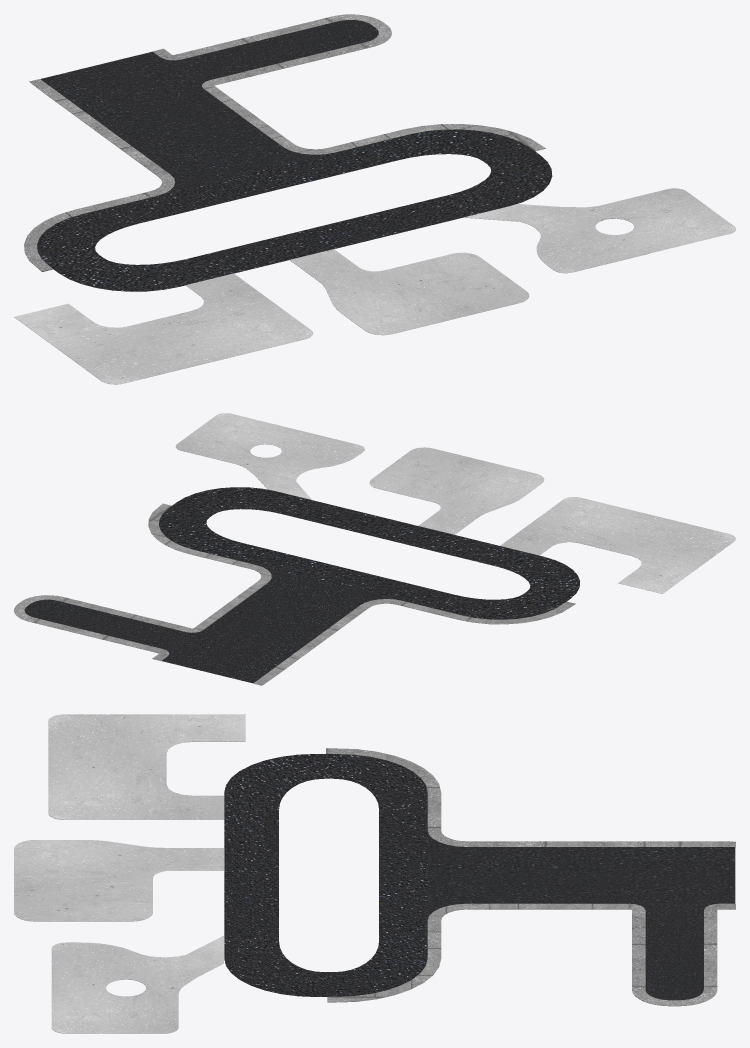
File: newBlocks.fbx
3 renders of one model, top to bottom at view 1: azimuth 30°, elevation 25°; view 2: azimuth 150°, elevation 25°; view 3: azimuth 270°, elevation 25°, orthographic. The views are drawn at different scales.
Visible parts, largest first — view 1: polySurface36, polySurface37, polySurface34, polySurface46, polySurface39, polySurface38, polySurface49, polySurface48, polySurface47, polySurface50, polySurface40, polySurface52 (+9 smaller); view 2: polySurface36, polySurface37, polySurface34, polySurface46, polySurface39, polySurface38, polySurface49, polySurface48, polySurface47, polySurface50, polySurface40, polySurface52 (+9 smaller); view 3: polySurface36, polySurface37, polySurface34, polySurface46, polySurface39, polySurface38, polySurface49, polySurface48, polySurface47, polySurface50, polySurface40, polySurface52 (+9 smaller).
Part boxes in pixels (<box>): polySurface36: <box>300,129,552,229</box>; polySurface37: <box>120,161,412,267</box>; polySurface34: <box>37,205,255,291</box>; polySurface46: <box>368,252,529,322</box>; polySurface39: <box>94,80,257,150</box>; polySurface38: <box>138,128,330,195</box>; polySurface49: <box>14,303,142,384</box>; polySurface48: <box>128,308,242,378</box>; polySurface47: <box>185,273,312,354</box>; polySurface50: <box>577,188,735,271</box>; polySurface40: <box>40,51,190,117</box>; polySurface52: <box>536,219,654,273</box>; polySurface36: <box>159,487,353,571</box>; polySurface37: <box>285,510,482,607</box>; polySurface34: <box>427,541,579,619</box>; polySurface46: <box>369,447,495,504</box>; polySurface39: <box>193,598,332,651</box>; polySurface38: <box>248,565,399,624</box>; polySurface49: <box>618,530,735,593</box>; polySurface48: <box>572,510,712,555</box>; polySurface47: <box>500,497,632,555</box>; polySurface50: <box>175,413,295,461</box>; polySurface40: <box>162,638,296,683</box>; polySurface52: <box>262,429,364,468</box>; polySurface36: <box>224,902,427,996</box>; polySurface37: <box>224,812,427,909</box>; polySurface34: <box>224,754,427,830</box>; polySurface46: <box>14,858,154,921</box>; polySurface39: <box>510,847,658,903</box>; polySurface38: <box>427,831,537,919</box>; polySurface49: <box>48,714,245,753</box>; polySurface48: <box>48,731,168,793</box>; polySurface47: <box>48,780,224,819</box>; polySurface50: <box>51,983,178,1033</box>; polySurface40: <box>625,847,735,903</box>; polySurface52: <box>51,942,154,991</box>.
Size of the model in its own units: 17472 by 6.21 by 16704.
